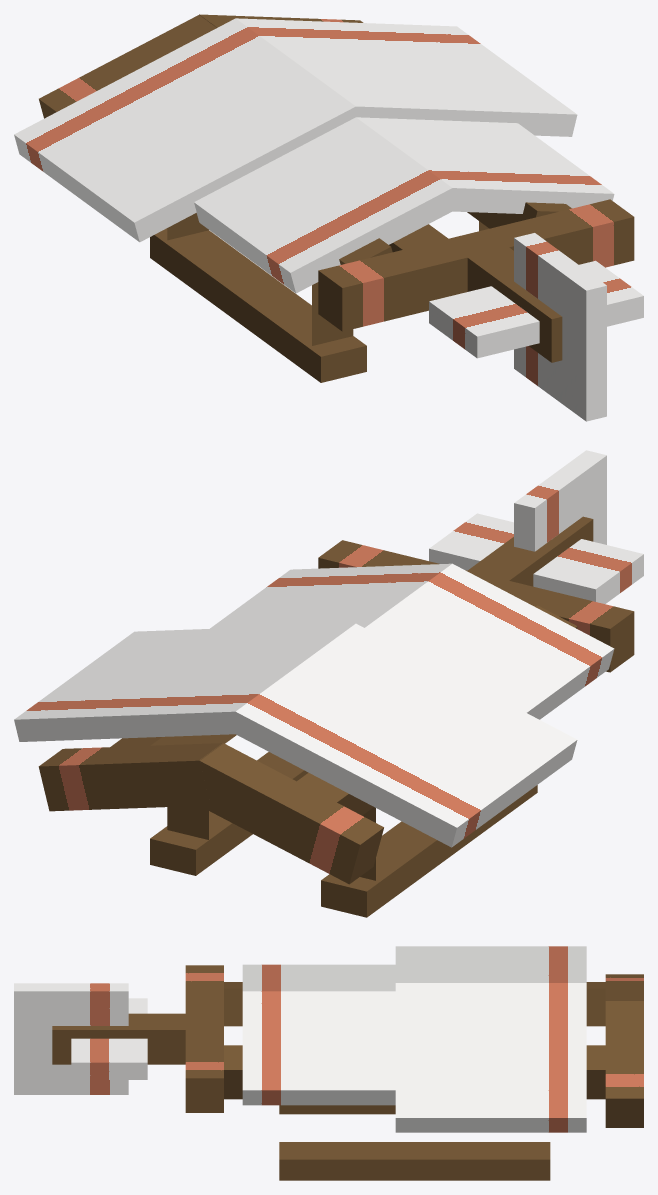
The model's file is glider.gltf.
3 renders of one model, top to bottom at view 1: azimuth 30°, elevation 25°; view 2: azimuth 150°, elevation 25°; view 3: azimuth 270°, elevation 25°, orthographic. The views are drawn at different scales.
Visible parts, largest first — view 1: cube (×15); view 2: cube (×15); view 3: cube (×14).
Boxes of the visible parts, bbox=[...] form: cube (×15): bbox=[14, 14, 643, 421]; cube (×15): bbox=[14, 450, 643, 917]; cube (×14): bbox=[14, 946, 643, 1180].
Size of the model in its own units: 1.33 by 0.5626 by 2.06.
1 material, 1 textured.
